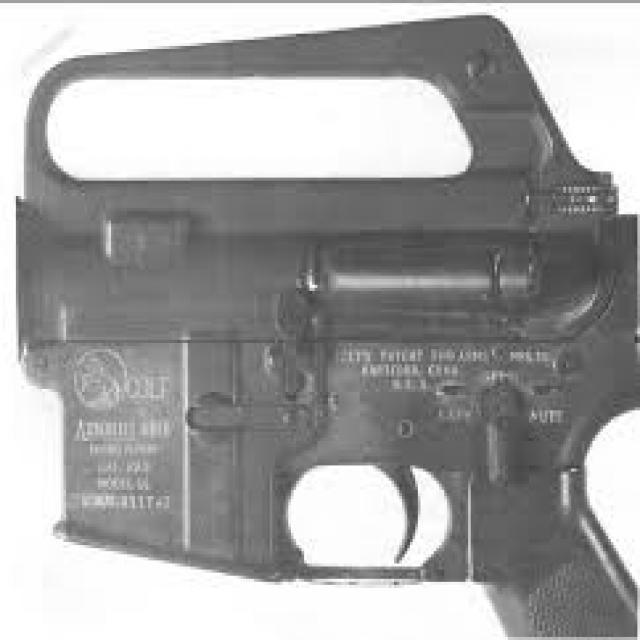m16: (16, 64, 622, 611)
